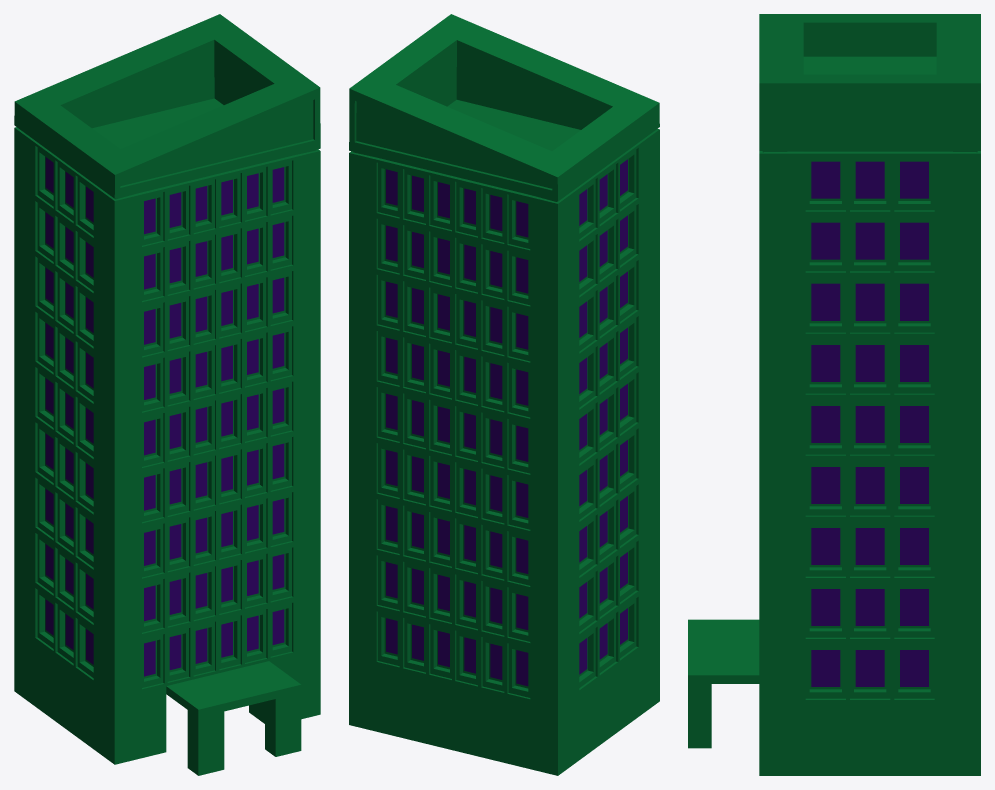
The model's file is collab2.FBX.
The picture shows the model from 3 angles, left to right: view 1: azimuth 30°, elevation 25°; view 2: azimuth 150°, elevation 25°; view 3: azimuth 270°, elevation 25°; orthographic projection. The views are drawn at different scales.
Visible parts, largest first — view 1: Box003; view 2: Box003; view 3: Box003.
Part boxes in pixels (x1,y1,x2,y2): Box003: (14, 14, 320, 775); Box003: (349, 14, 659, 775); Box003: (688, 14, 980, 775).
Bounding box in the file's own units: 60.02 × 175 × 67.
